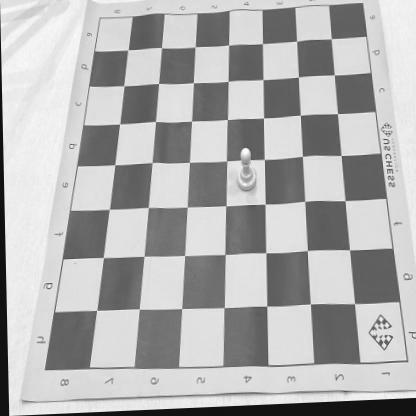white-pawn: (236, 149, 256, 195)
